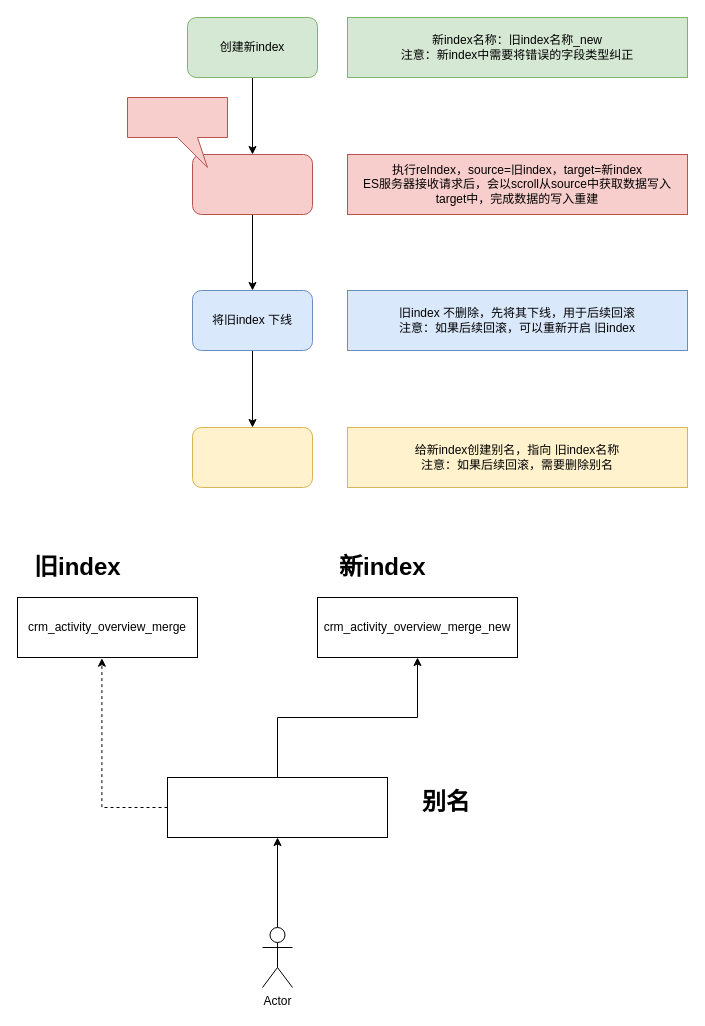
The diagram is 705 pixels wide and 1026 high, and some of its shapes have lost their labels. The centre of each missing label's shape, as x and y in pixels:
crm_activity_overview_merge_alias: [277,807]
执行reIndex: [252,184]
新index 创建别名: [252,457]
重要步骤: [177,132]
